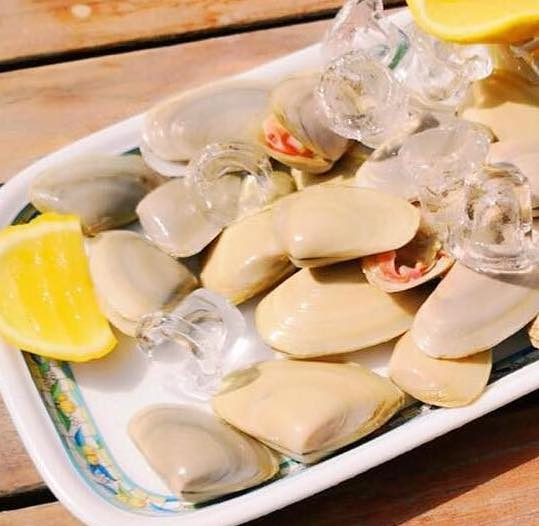tuatua: (212, 358, 412, 465), (251, 263, 414, 361), (126, 403, 280, 501), (410, 254, 536, 360), (270, 189, 419, 272), (92, 230, 195, 343), (27, 153, 160, 234), (387, 329, 497, 411)
